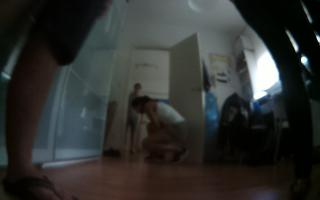person: (1, 1, 110, 200), (228, 1, 320, 200), (130, 96, 190, 163), (124, 80, 143, 159)
